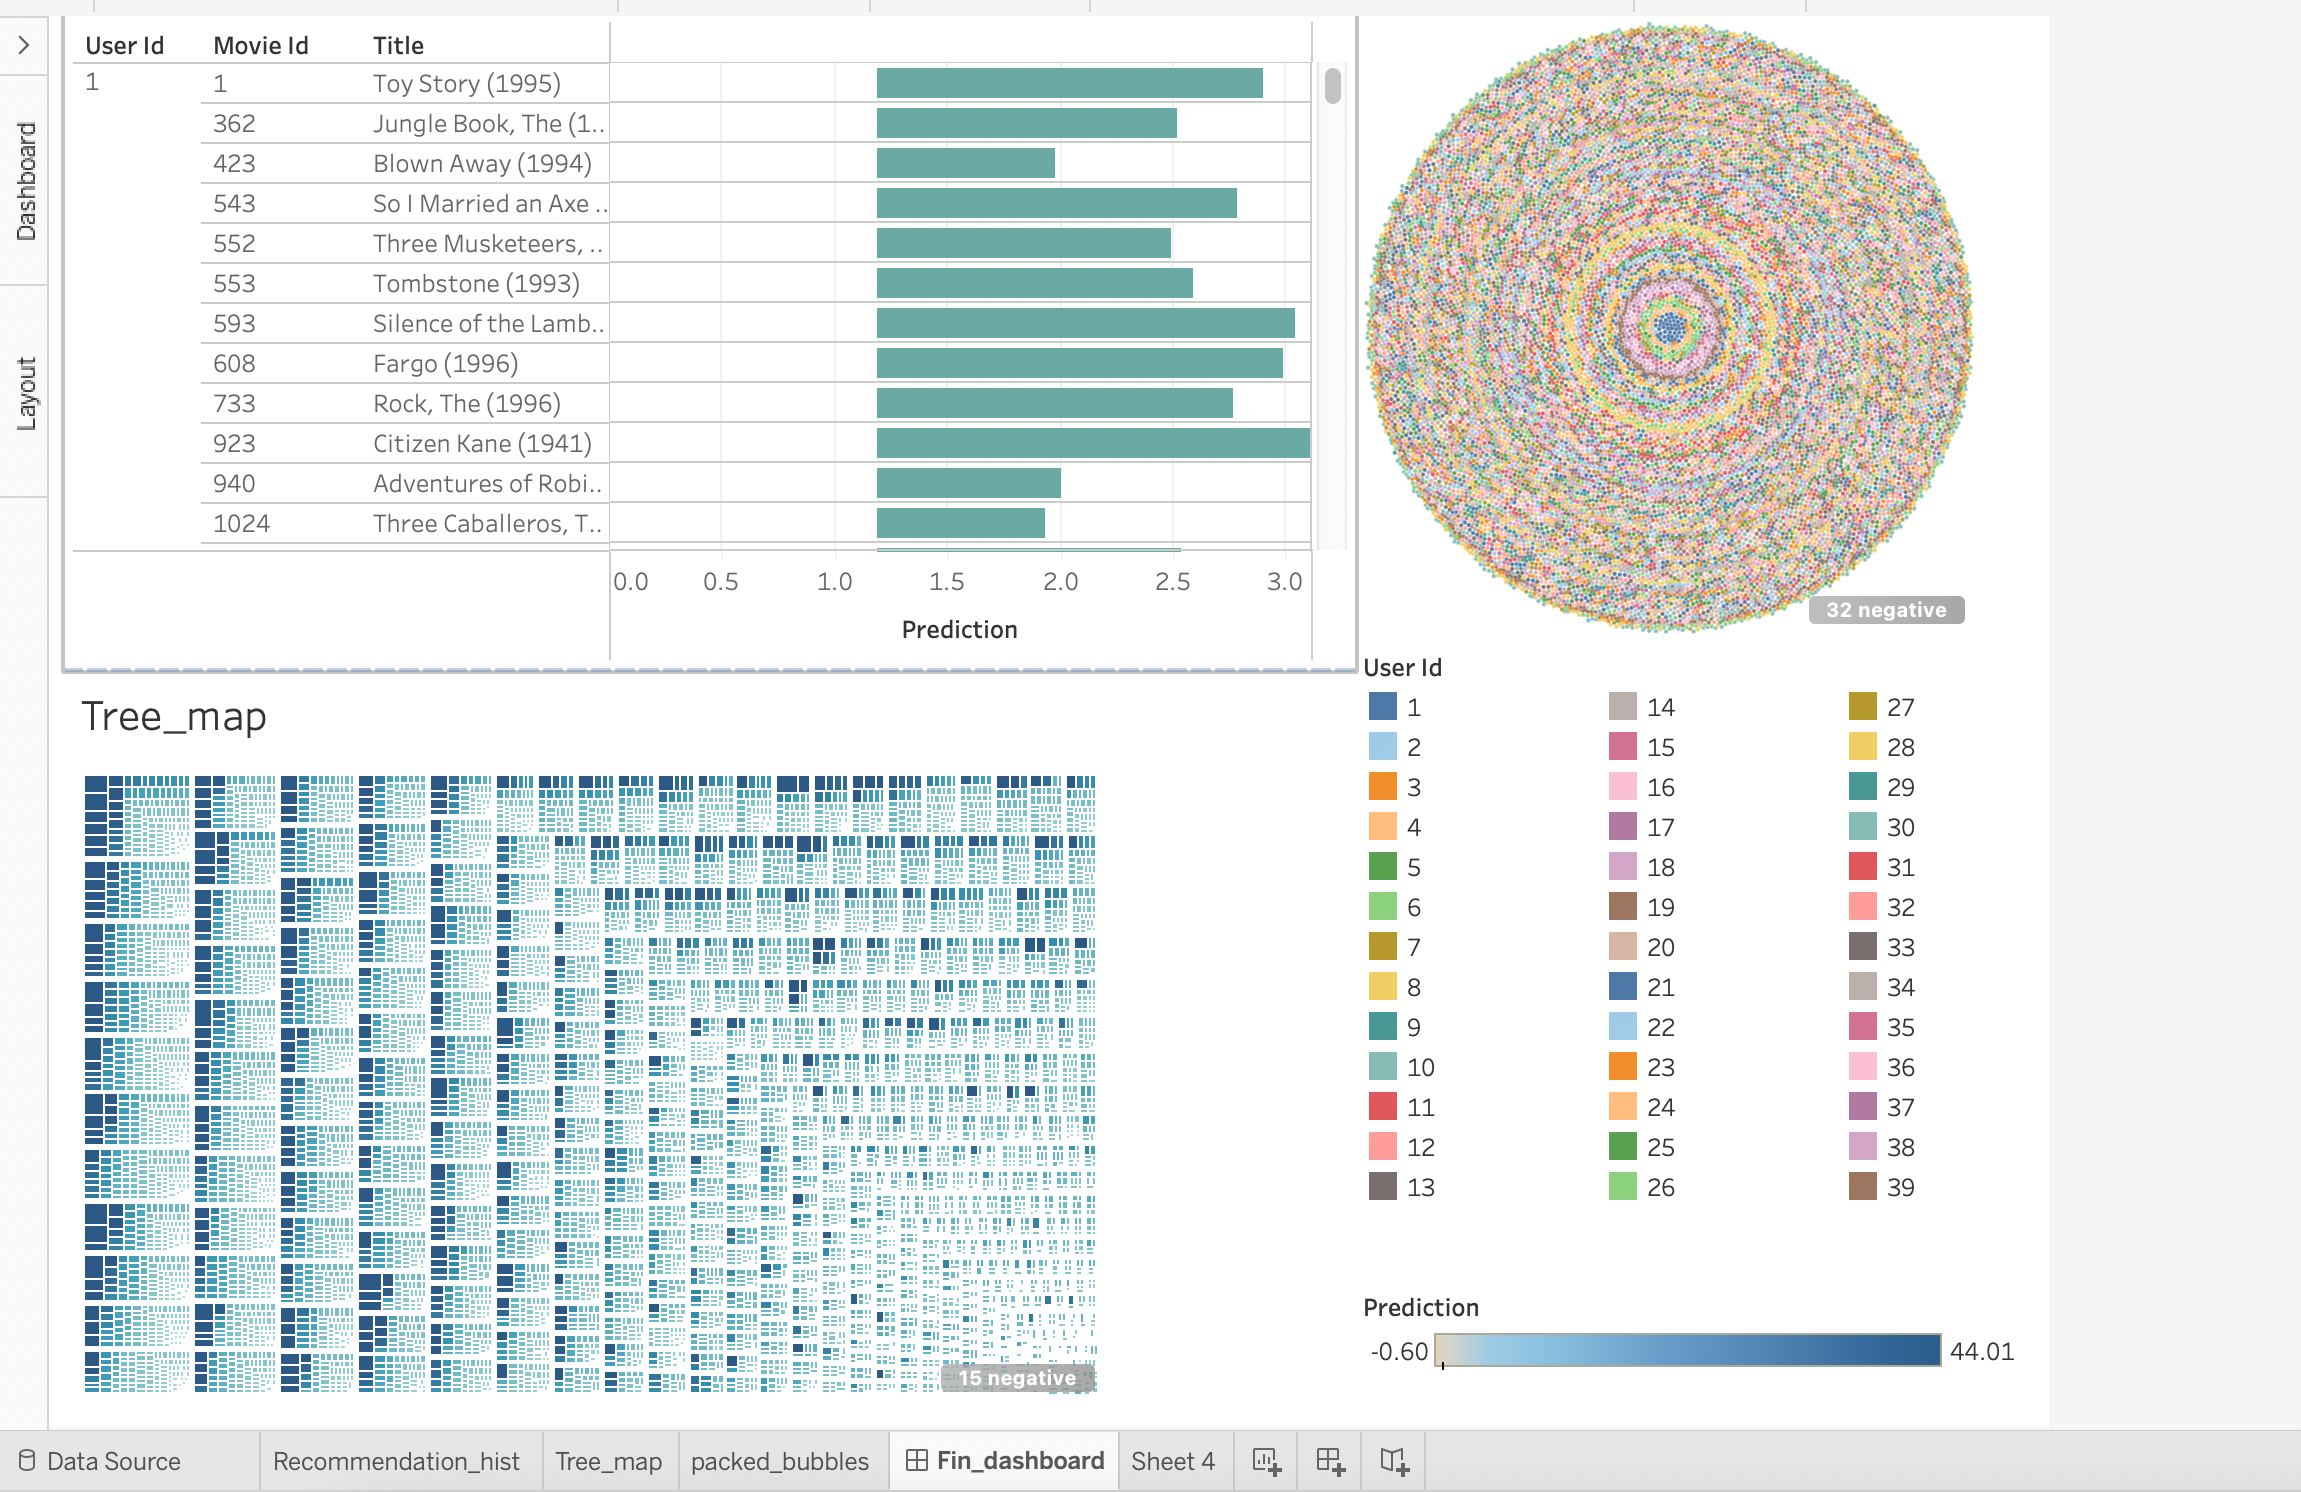

The page's visual inventory and layout, read from the dashboard file:
{"tool":"tableau","page":{"name":"Fin_dashboard","canvas":[1000,800],"ordinal":0},"visuals":[{"type":"title","box":[8,8,984,42]},{"type":"worksheet","title":"Recommendation_hist","mark":"Automatic","rows":["userId","movieId","title"],"cols":["prediction"],"box":[8,50,645,371]},{"type":"worksheet","title":"packed_bubbles","mark":"Circle","box":[653,50,339,357]},{"type":"legend","title":"packed_bubbles","param":"[federated.0fyycmj0rznunx1d56ve108lwt1r].[none:userId:ok]","box":[653,407,339,320]},{"type":"worksheet","title":"Tree_map","mark":"Automatic","box":[8,421,645,371]},{"type":"legend","title":"Tree_map","param":"[federated.0fyycmj0rznunx1d56ve108lwt1r].[sum:prediction:qk]","box":[653,727,339,65]}]}

Visuals, with their boxes on the page's 1000x800 design canvas (x1, y1, x2, y2). These are canvas units, not pixel positions in the 2301x1492 screenshot, which may show the page scaled, cropped or inside an application window:
title: [left=8, top=8, right=992, bottom=50]
"Recommendation_hist" worksheet: [left=8, top=50, right=653, bottom=421]
"packed_bubbles" worksheet (Circle marks): [left=653, top=50, right=992, bottom=407]
"packed_bubbles" legend: [left=653, top=407, right=992, bottom=727]
"Tree_map" worksheet: [left=8, top=421, right=653, bottom=792]
"Tree_map" legend: [left=653, top=727, right=992, bottom=792]
